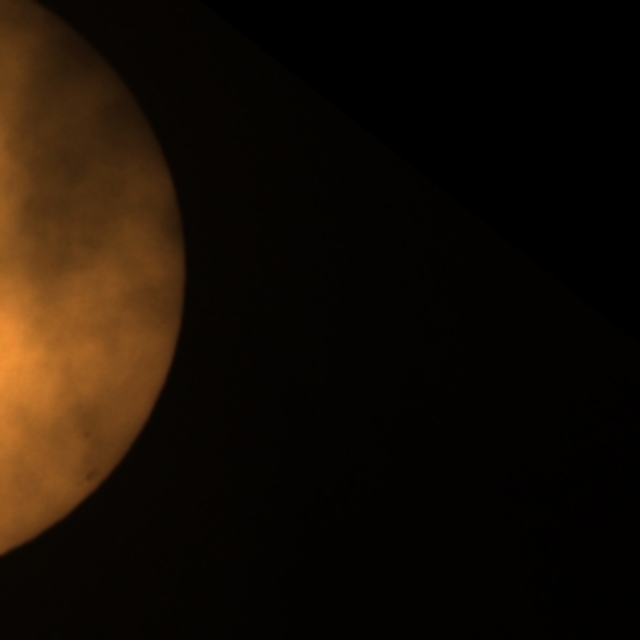sunspot: (74, 457, 105, 482)
